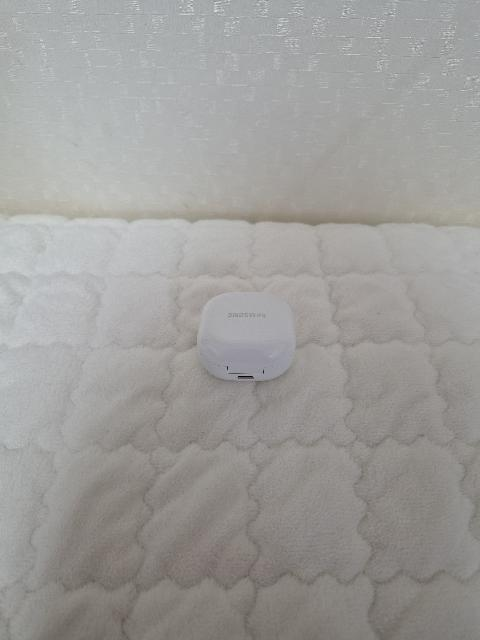earphone_case: (197, 292, 296, 381)
